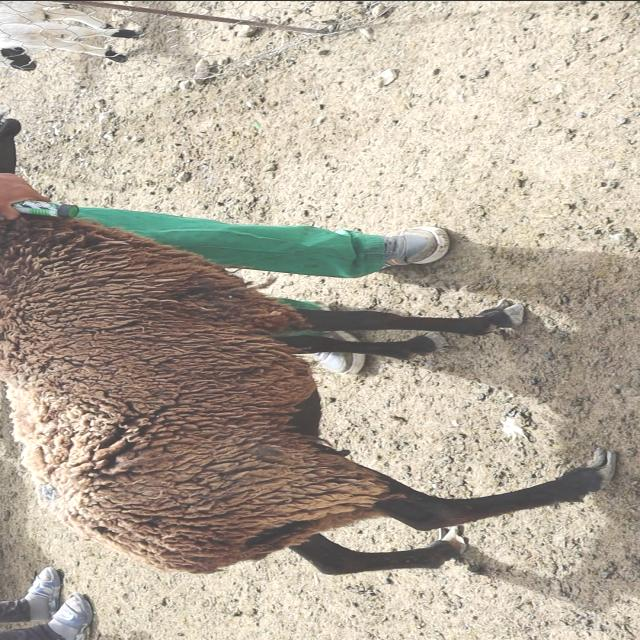Score_1: (0, 213, 616, 574)
